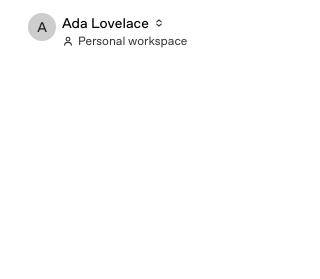
Test: AccountChip › shows menu items exactly Settings, Keyboard shortcuts, Give feedback, the email, Sign out
Click the button with test id "account-chip".
click(108, 31)  # box x1=8 y1=5 x2=207 y2=57
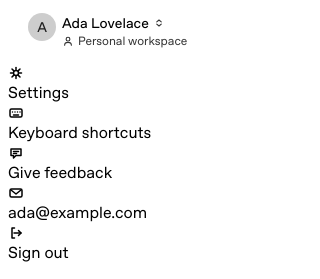
Expected: the menu items read "Settings", "Keyboard shortcuts", "Give feedback", "ada@example.com", "Sign out", in this order, x1=8 y1=65 x2=69 y2=102; x1=8 y1=105 x2=151 y2=145; x1=8 y1=145 x2=112 y2=182; x1=8 y1=185 x2=151 y2=225; x1=8 y1=225 x2=69 y2=262
